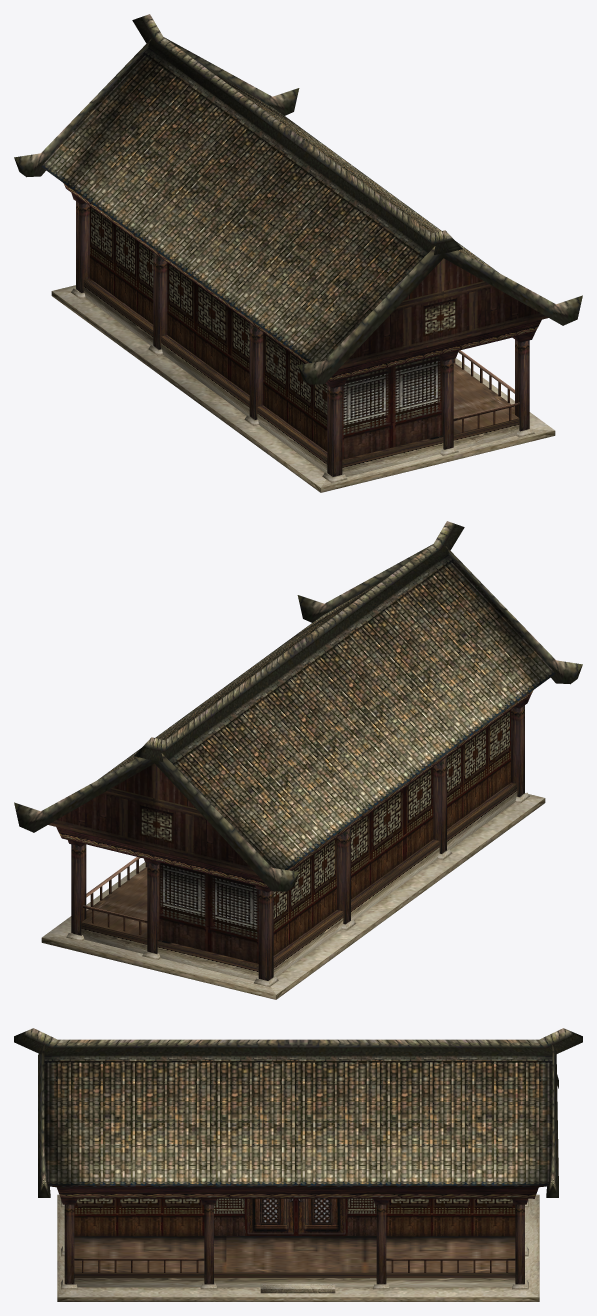
Rendered from b1-033-guesthouse-02_lod_01.glb.
The picture shows the model from 3 angles, top to bottom: view 1: azimuth 30°, elevation 25°; view 2: azimuth 150°, elevation 25°; view 3: azimuth 270°, elevation 25°; orthographic projection. The views are drawn at different scales.
Visible parts, largest first — view 1: b1-033-guesthouse-01, b1-033-guesthouse-02; view 2: b1-033-guesthouse-01, b1-033-guesthouse-02; view 3: b1-033-guesthouse-01, b1-033-guesthouse-02.
Boxes of the visible parts, x1,y1,x2,y2 form: b1-033-guesthouse-01: [14, 14, 582, 483]; b1-033-guesthouse-02: [51, 201, 555, 492]; b1-033-guesthouse-01: [14, 521, 582, 987]; b1-033-guesthouse-02: [41, 705, 545, 999]; b1-033-guesthouse-01: [14, 1028, 582, 1293]; b1-033-guesthouse-02: [57, 1194, 539, 1301].
Bounding box in the file's own units: 14.1 × 11.57 × 27.14.
2 materials, 2 textured.
